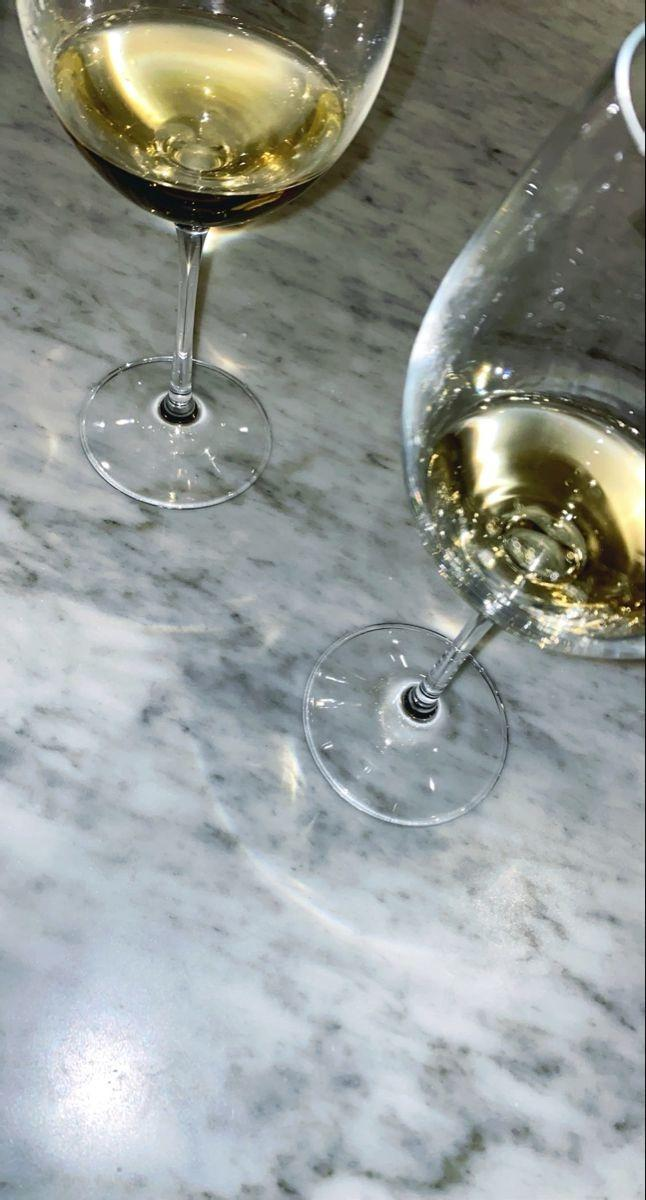glass-wine: (261, 0, 646, 866), (5, 1, 411, 518)
